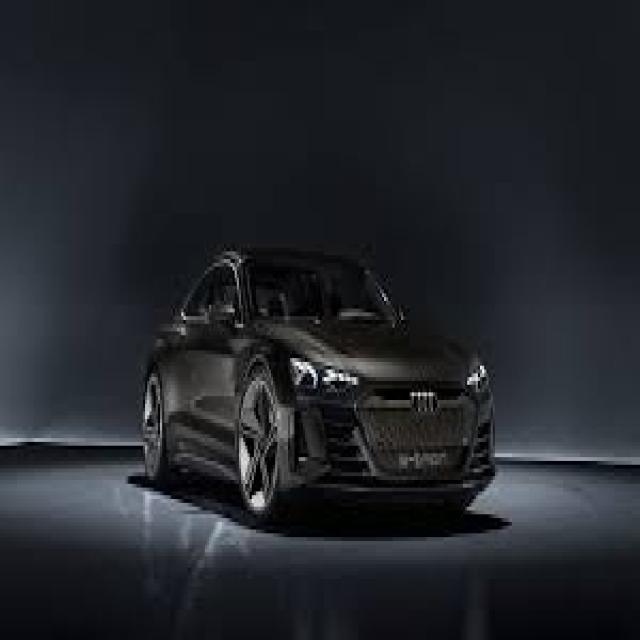black: (130, 236, 578, 538)
